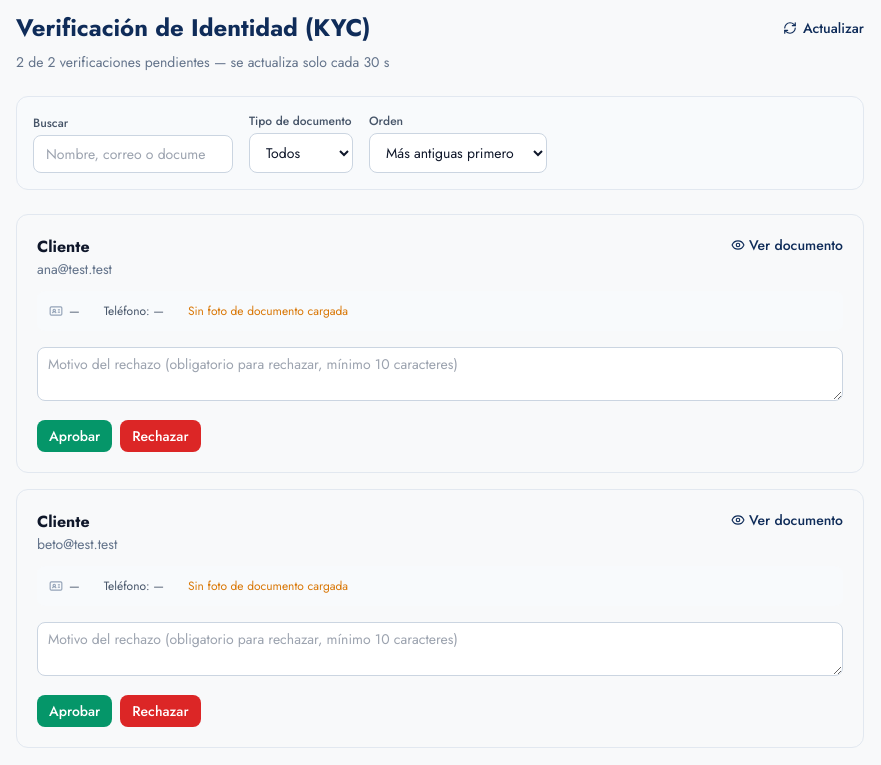
Test: AgentKycPanel › 'Limpiar filtros' restaura la lista completa
Expected: the text "ana@test.test" is shown, [37,259,112,279]
Type "ana" into the search field labelled "Buscar" at (133, 154), box [33,135,233,173]
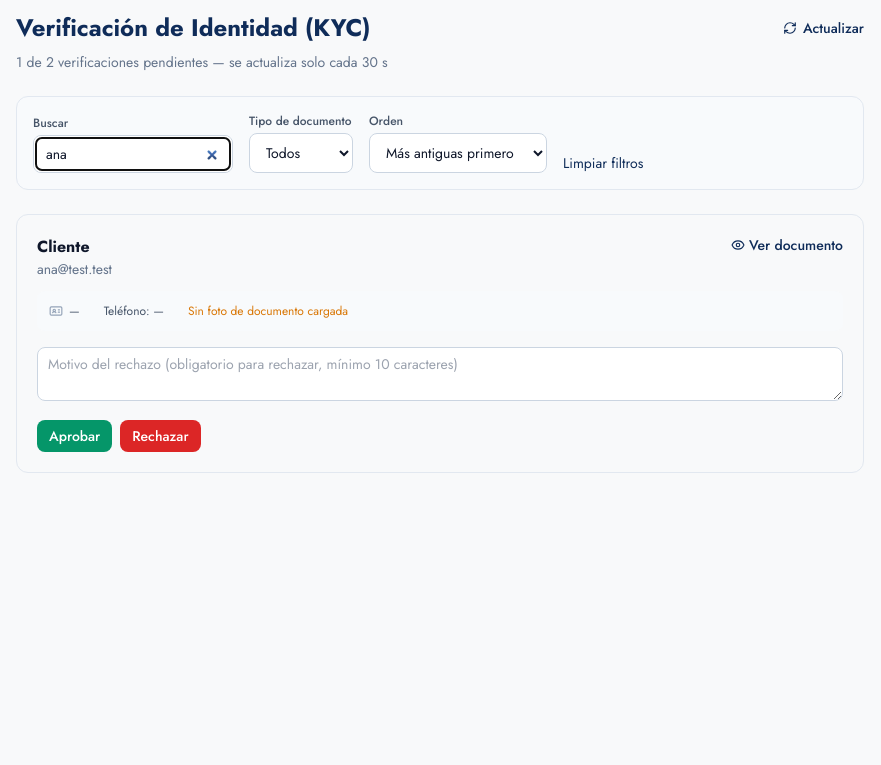
Now the text "beto@test.test" is gone
Click the button "Limpiar filtros" at (603, 163), box [563,153,643,173]
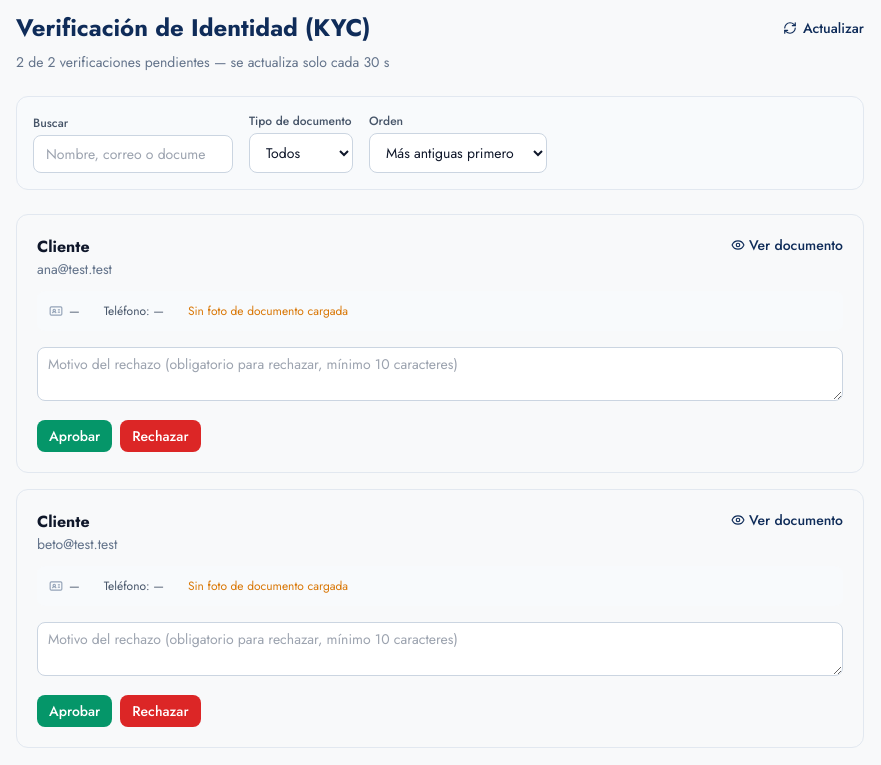
Expected: the text "ana@test.test" is shown, [37,259,112,279]
Now the text "beto@test.test" is shown, box [37,534,117,554]
